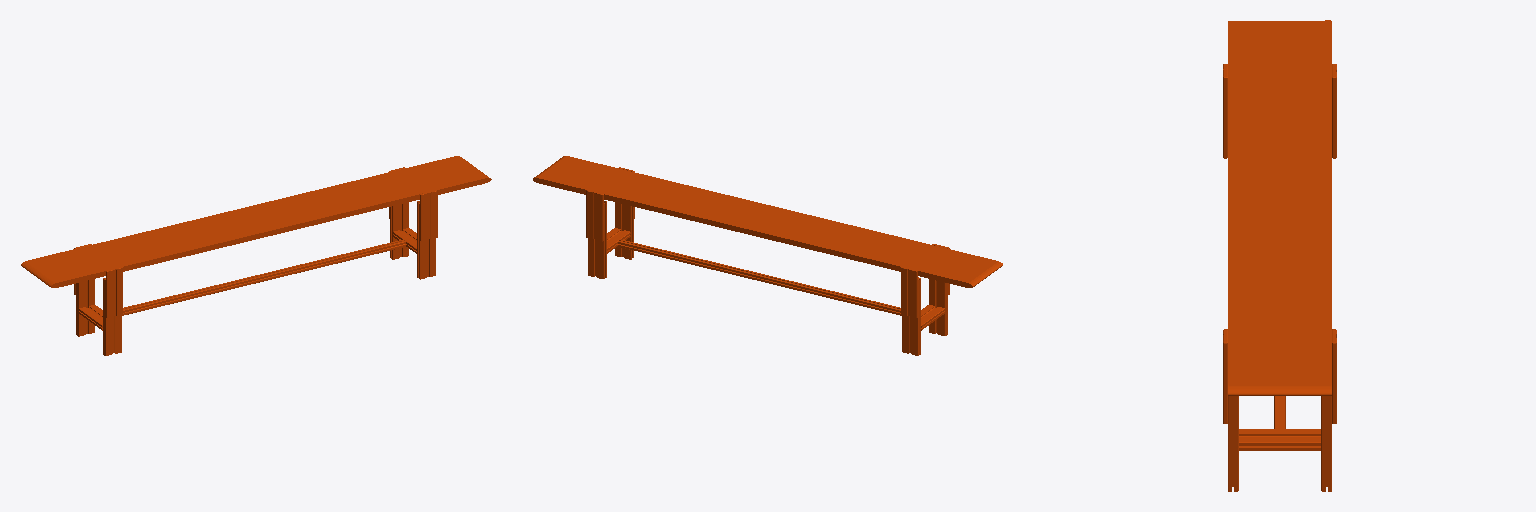
URDF robot description (conveyor_belt):
<?xml version="1.0"?>
<robot name="conveyor_belt">

<!-- conveyor belt is just a long flat box for objects to slide on it -->

<!-- world link -->
<link name="world"/>

<!-- base_link and its fixed joint -->
	<joint name="fixed" type="fixed">
		<parent link="world"/>
		<child link="belt_visual"/>
		<origin xyz="0.9 -0.375 0.0" rpy="0.0 0.0 -1.5708"/>
	</joint>
	

	<link name="belt_visual">
		<inertial>
			<origin xyz="1.1327E-16 -3.3286E-17 0.66019" rpy="0 0 0" />
			<mass value="71.953" />
			<inertia ixx="7.5972" ixy="-1.394E-14" ixz="1.9328E-17" iyy="0.99673" iyz="-9.2056E-18" izz="8.1168" />
		</inertial>
		<visual>
			<origin xyz="0 0 0" rpy="0 0 0" />
			<geometry>
				<mesh filename="package://gantry/meshes/conveyor_belt.dae" />
			</geometry>
			<material name="blue">
				<color rgba="0.8 0.325 0.06 1" />
			</material>
		</visual>
		<collision>
			<origin xyz="0.0 0.0 0" rpy="1.570796327 0.0 1.570796327"/>
			<geometry>
				<mesh filename="package://gantry/meshes/conveyor_simple.dae" />
			</geometry>
		</collision>
	</link>

	<!-- <link name="test_cube">
		<visual>
			<origin xyz="0.0 0.0 0.37" rpy="0.0 0.0 0.0"/>
			<geometry>
				<box size="0.463 1.2 0.74"/>
			</geometry>
			<material name="purple">
				<color rgba="1 0 1 0.2" />
			</material>
		</visual>
	</link> -->

	<joint name="belt_joint" type="prismatic">
		<origin xyz="0.0 0.0 0.671" rpy="0.0 0.0 0.0"/>
		<parent link="belt_visual"/>
		<child link="belt_moving"/>
		<axis xyz="0 -1 0"/>
		<limit lower="0.0" upper="1" effort="1000" velocity="1000"/>
	</joint>

	<link name="belt_moving">
		<inertial>
			<origin xyz="0.0 0.0 0.0" rpy="0.0 0.0 0.0"/>
			<mass value="100"/>
			<inertia ixx="0.0" ixy="0.0" ixz="0.0" iyy="0.0" iyz="0.0" izz="0.0"/>
		</inertial>
		<!-- <visual>
			<origin xyz="0.0 0.0 0.0005" rpy="0.0 0.0 0.0"/>
			<geometry>
				<box size="0.425 1.2 0.001"/>
			</geometry>
			<material name="test">
				<color rgba="1 0 1 1" />
			</material>
		</visual> -->
		<collision>
			<origin xyz="0.0 0.5 0.0005" rpy="0.0 0.0 0.0"/>
			<geometry>
				<box size="0.425 3.85 0.001"/>
			</geometry>
		</collision>
	</link>

    <gazebo>
     <plugin name="conveyor_belt_plugin" filename="libROSConveyorBeltPlugin.so">
        <robot_namespace>/</robot_namespace>
        <link>belt_moving</link>
        <update_rate>10</update_rate>
        <power>10</power>
        <max_velocity>10.2</max_velocity>
     </plugin>
     <mu1>0</mu1>
     <mu2>0</mu2>
     <material>Gazebo/FlatBlack</material>
    </gazebo>
  <!--<gazebo reference="belt_visual">
	<material>Gazebo/Blue</material>
  </gazebo>-->

</robot>

--- What the picture shows (computed from the rendered views, not written in the file) ---
The picture shows the robot from 3 angles, left to right: view 1: azimuth 30°, elevation 25°; view 2: azimuth 150°, elevation 25°; view 3: azimuth 270°, elevation 25°; orthographic projection.
Model conveyor_belt with 3 links and 2 joints (1 prismatic, 1 fixed), rooted at world, posed all joints at 0.
Visible links, largest first — view 1: belt_visual; view 2: belt_visual; view 3: belt_visual.
Boxes of the visible links, x1=… form: belt_visual: x1=21, y1=156, x2=491, y2=355; belt_visual: x1=533, y1=156, x2=1002, y2=355; belt_visual: x1=1223, y1=20, x2=1336, y2=491.
Size in the robot's own frame: 3.6 by 0.463 by 0.6692 metres.
1 mesh visuals loaded from 1 distinct referenced files (1 Collada DAE).